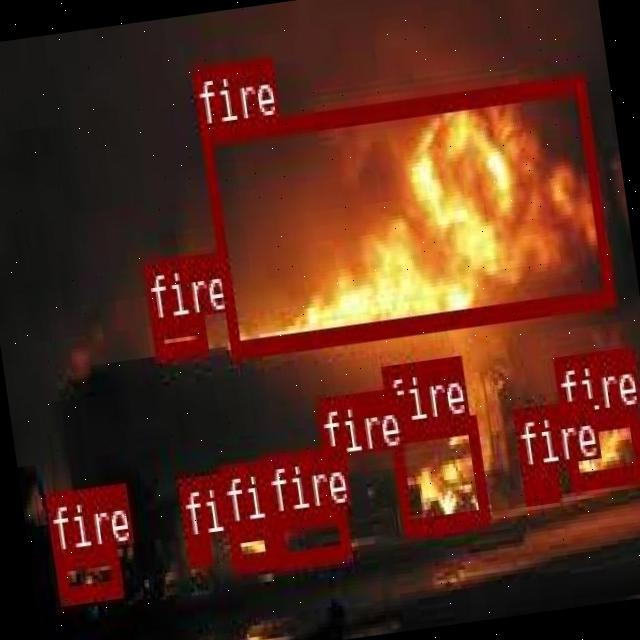fire: (200, 72, 614, 356), (388, 414, 488, 532), (559, 404, 640, 488), (270, 504, 352, 568), (54, 545, 120, 601), (226, 519, 276, 568), (150, 314, 206, 356), (521, 465, 558, 503), (184, 536, 211, 566), (323, 456, 345, 478)
